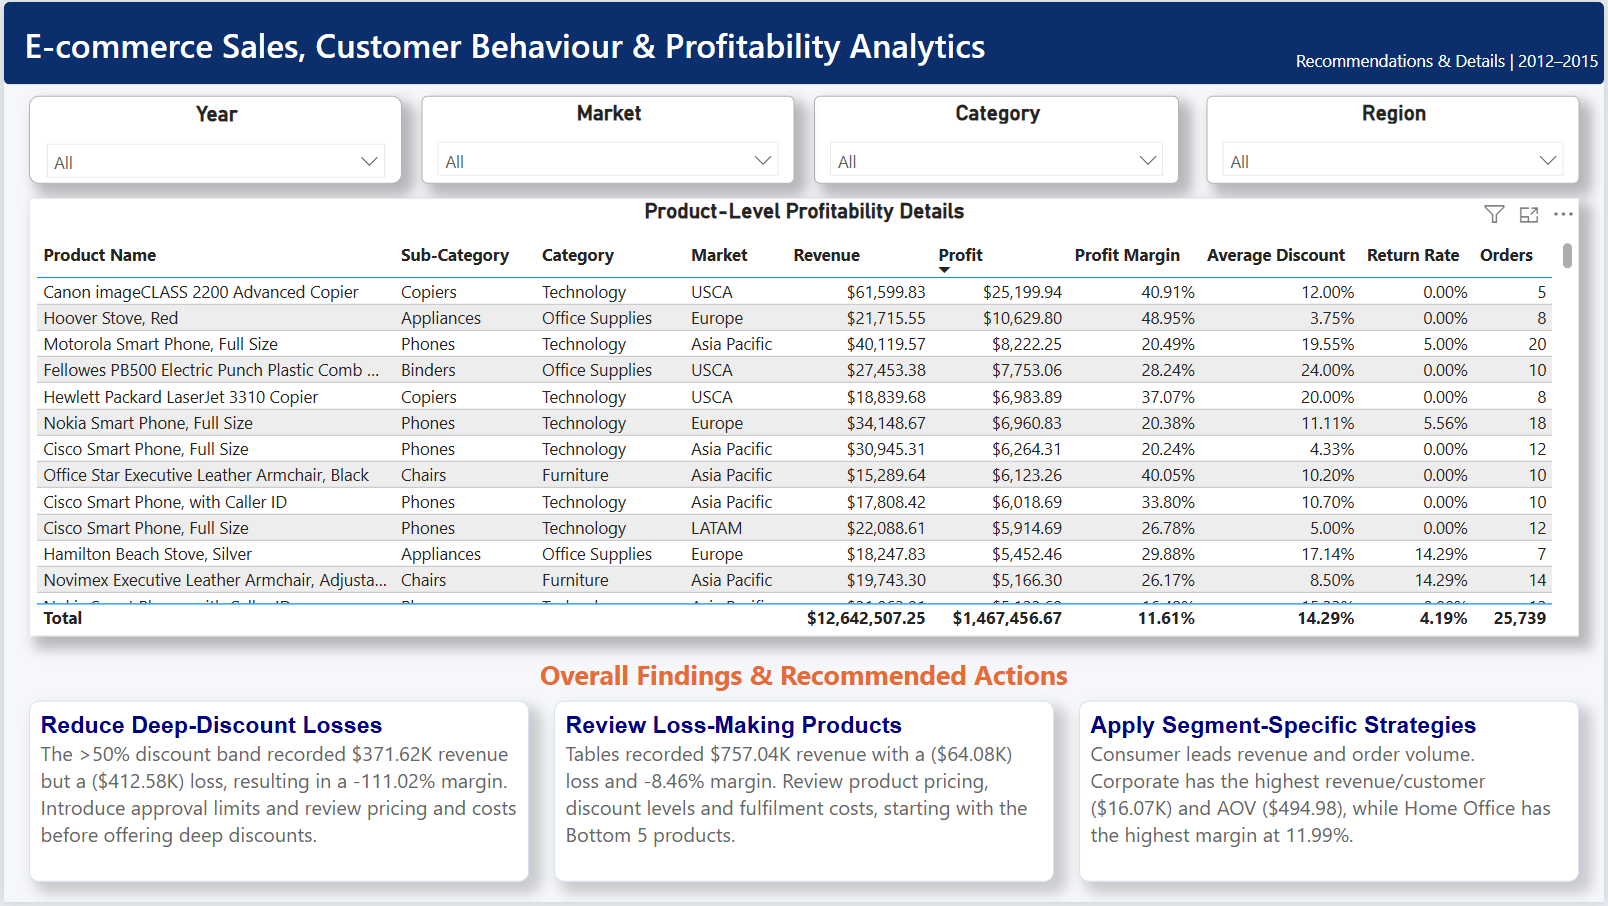

The dashboard page shown, as its layout file describes it:
{"tool":"powerbi","page":{"name":"04 Recommendations & Details","canvas":[1280,720],"ordinal":4},"visuals":[{"type":"shape","box":[0,0,1279.7,65.6],"z":0},{"type":"textbox","box":[10.9,10.9,876.6,45.3],"z":1000},{"type":"textbox","box":[0,32.8,1280,150],"z":2000},{"type":"slicer","title":"Region","fields":{"Values":["DimGeography.region"]},"box":[962,75,298,70],"z":3000},{"type":"slicer","title":"Category","fields":{"Values":["DimProduct.category"]},"box":[648,75,292,70],"z":4000},{"type":"slicer","title":"Year","fields":{"Values":["DimDate.year"]},"box":[20,75,298,70],"z":5000},{"type":"slicer","title":"Market","fields":{"Values":["DimGeography.market"]},"box":[334,75,298,70],"z":6000},{"type":"textbox","box":[20,559,400,145],"z":7000},{"type":"textbox","box":[860,559,400,145],"z":8000},{"type":"textbox","box":[440,559,400,145],"z":9000},{"type":"textbox","box":[401.1,517.9,476.7,42.2],"z":10000},{"type":"tableEx","title":"Product-Level Profitability Details","fields":{"Values":["DimProduct.product_name","DimProduct.sub_category","DimProduct.category","DimGeography.market","_Measures.Total Revenue","_Measures.Total Profit","_Measures.Profit Margin","_Measures.Average Discount","_Measures.Return Rate Display","_Measures.Total Orders"]},"box":[20,156.7,1240,350],"z":11000}]}

Visuals, with their boxes in screenshot pixels (x1, y1, x2, y2), scaled from the page's 1280x720 canvas onto the 1608x906 screenshot:
shape: pyautogui.locateOnScreen(0, 0, 1607, 83)
textbox: pyautogui.locateOnScreen(14, 14, 1115, 71)
textbox: pyautogui.locateOnScreen(0, 41, 1607, 230)
"Region" slicer: pyautogui.locateOnScreen(1209, 94, 1583, 182)
"Category" slicer: pyautogui.locateOnScreen(814, 94, 1181, 182)
"Year" slicer: pyautogui.locateOnScreen(25, 94, 399, 182)
"Market" slicer: pyautogui.locateOnScreen(420, 94, 794, 182)
textbox: pyautogui.locateOnScreen(25, 703, 528, 886)
textbox: pyautogui.locateOnScreen(1080, 703, 1583, 886)
textbox: pyautogui.locateOnScreen(553, 703, 1055, 886)
textbox: pyautogui.locateOnScreen(504, 652, 1103, 705)
"Product-Level Profitability Details" tableEx: pyautogui.locateOnScreen(25, 197, 1583, 638)
